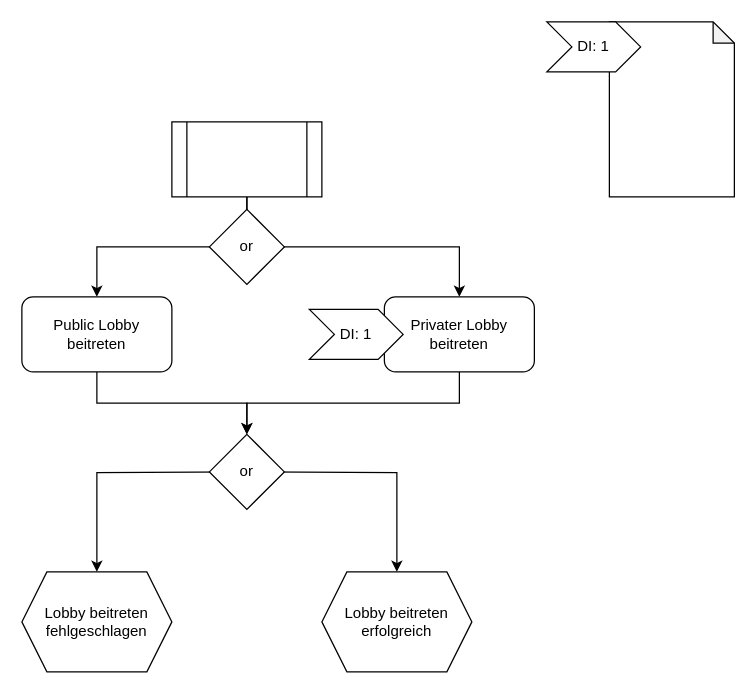
Some shapes in this 756 by 694 pixel diagram are drawn without their labels. The shapes that lost their labels are listed below. From the top down, each one's centre as x and y in pixels, then its label:
the point at 671,109: - Lobby Passwort
the point at 246,159: Lobby beitreten
